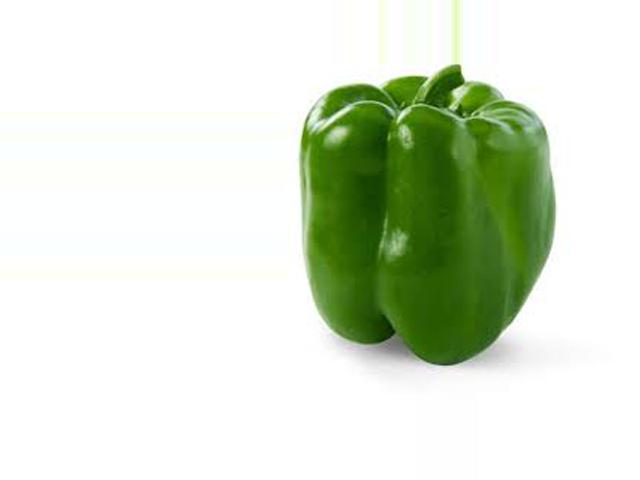bell_pepper: (293, 69, 560, 355)
